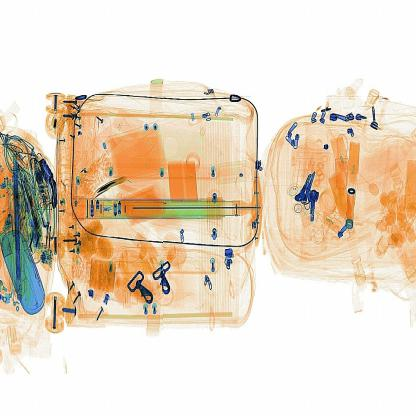wrench: (87, 169, 134, 202)
